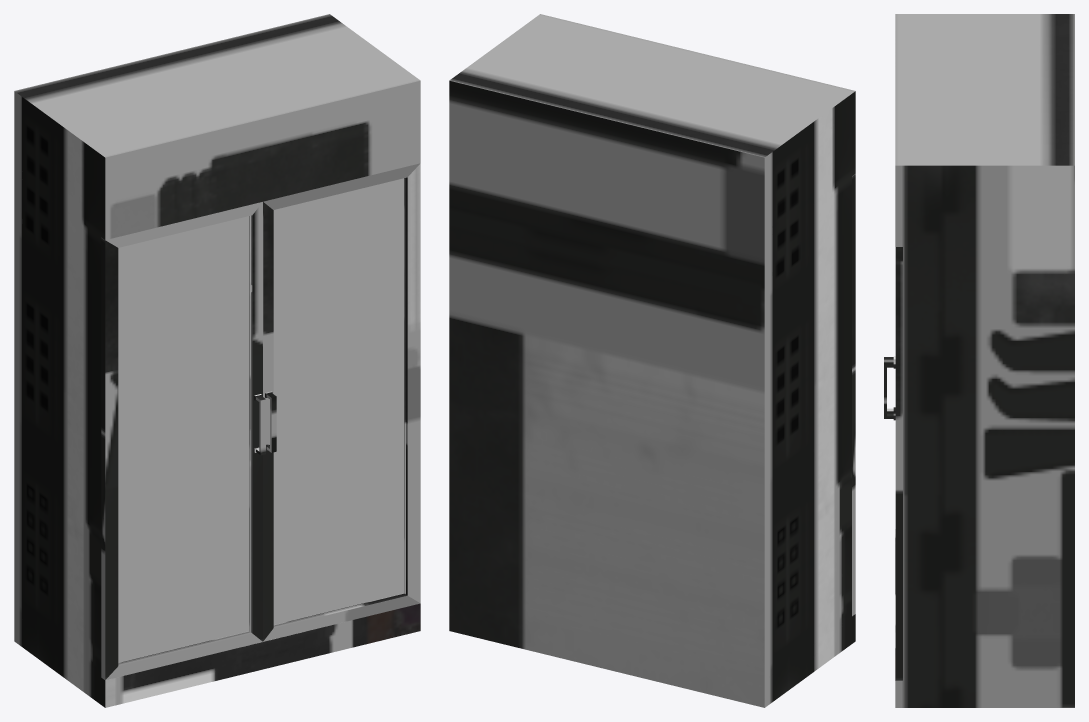
3 views of the same model, side by side, from view 1: azimuth 30°, elevation 25°; view 2: azimuth 150°, elevation 25°; view 3: azimuth 270°, elevation 25° (orthographic).
Parts seen in each view (by area): view 1: ThanTu, glass1, glass2, Canh1, Canh2; view 2: ThanTu, Canh1; view 3: ThanTu, Canh2.
Part boxes in pixels (x1,y1,x2,y2): ThanTu: (14,14,420,707); glass1: (118,216,249,662); glass2: (273,178,404,624); Canh1: (101,202,265,680); Canh2: (263,163,420,641); ThanTu: (449,14,855,707); Canh1: (852,174,855,616); ThanTu: (895,14,1074,707); Canh2: (884,247,902,680).
Bounding box in the file's own units: 144 × 240 × 76.55.
